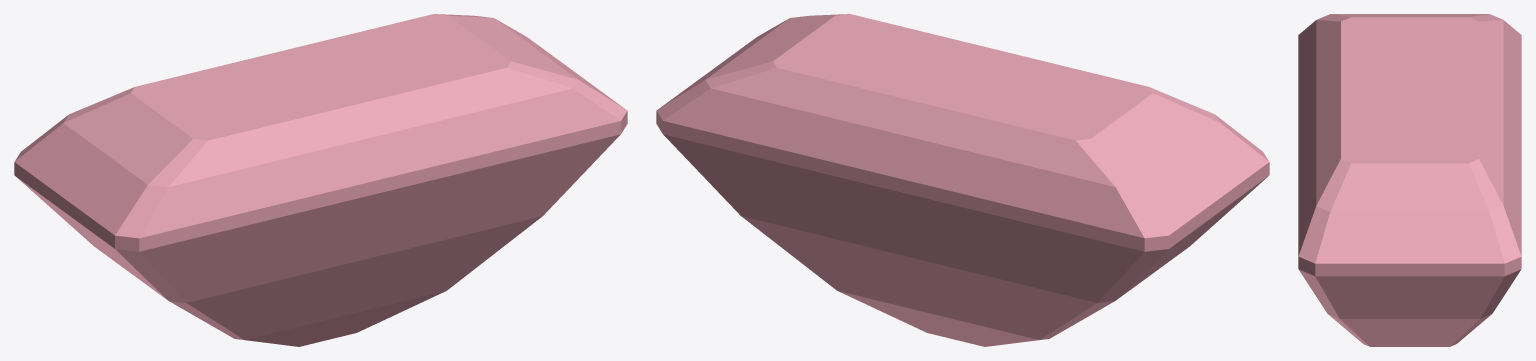
The model's file is tourmaline.glb.
The picture shows the model from 3 angles, left to right: view 1: azimuth 30°, elevation 25°; view 2: azimuth 150°, elevation 25°; view 3: azimuth 270°, elevation 25°; orthographic projection. The views are drawn at different scales.
Visible parts, largest first — view 1: tourmaline; view 2: tourmaline; view 3: tourmaline.
Part boxes in pixels (x1,y1,x2,y2): tourmaline: (14,14,627,346); tourmaline: (656,14,1269,346); tourmaline: (1298,14,1521,346).
Size of the model in its own units: 0.25 by 0.12 by 0.1.
